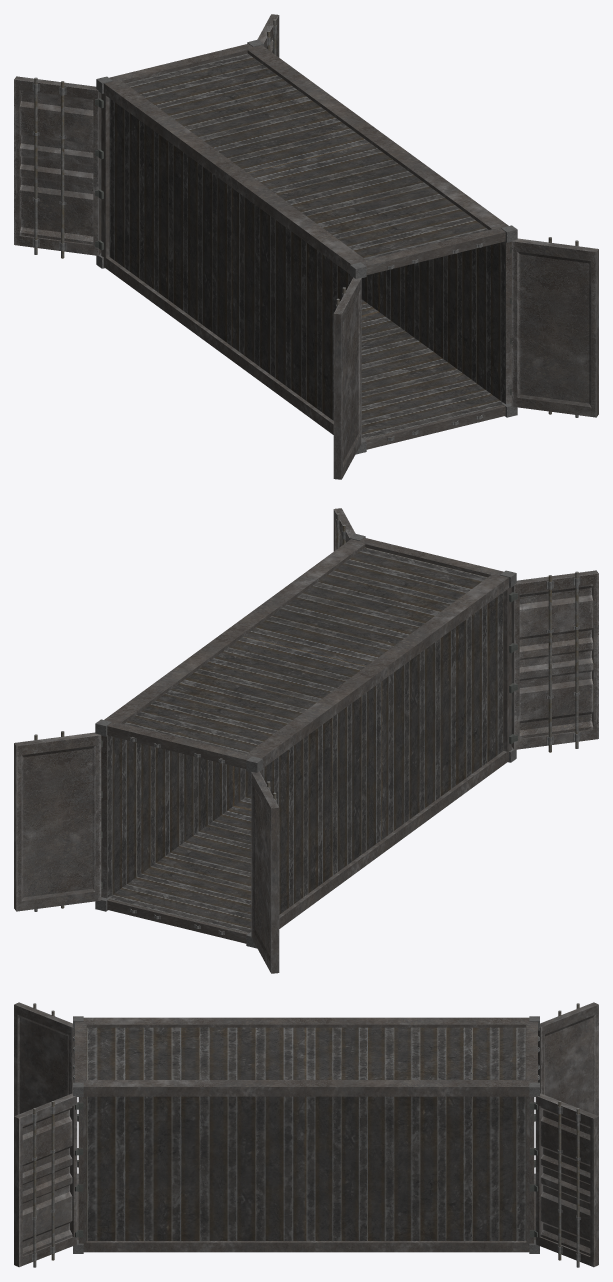
The model's file is storage_crate03.fbx.
The picture shows the model from 3 angles, top to bottom: view 1: azimuth 30°, elevation 25°; view 2: azimuth 150°, elevation 25°; view 3: azimuth 270°, elevation 25°; orthographic projection. The views are drawn at different scales.
Parts seen in each view (by area): view 1: storage_crate03; view 2: storage_crate03; view 3: storage_crate03.
Boxes of the visible parts, bbox=[...] form: storage_crate03: bbox=[14, 14, 598, 479]; storage_crate03: bbox=[14, 508, 598, 973]; storage_crate03: bbox=[14, 1002, 598, 1267].
Bounding box in the file's own units: 423 × 283 × 898.
